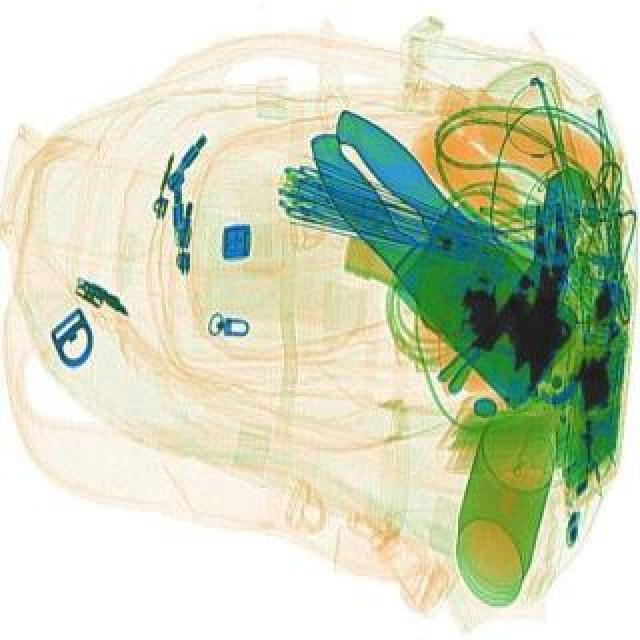knife: (288, 94, 606, 418), (278, 102, 594, 416)
